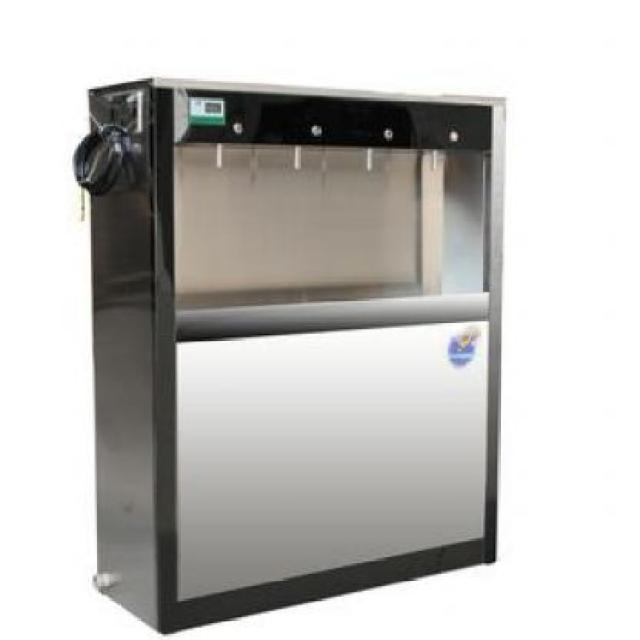cooler: (69, 69, 509, 640)
